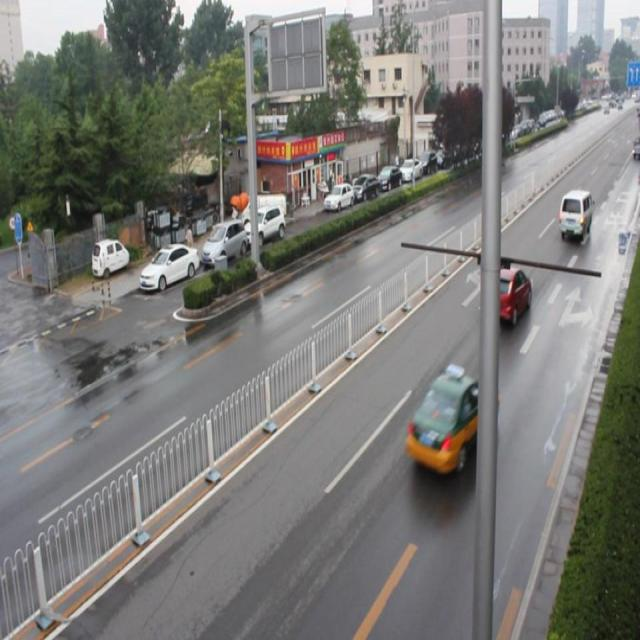car: (409, 364, 488, 473), (480, 263, 531, 322)
truck: (556, 185, 593, 240)
